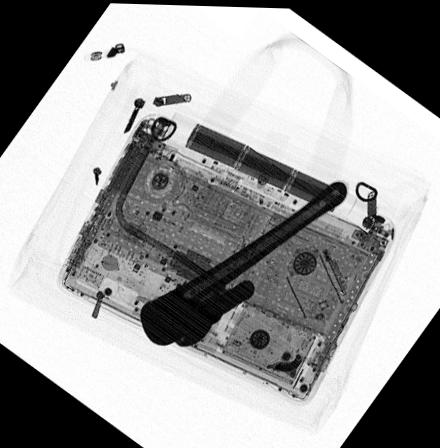Wrench: (136, 175, 348, 346)
